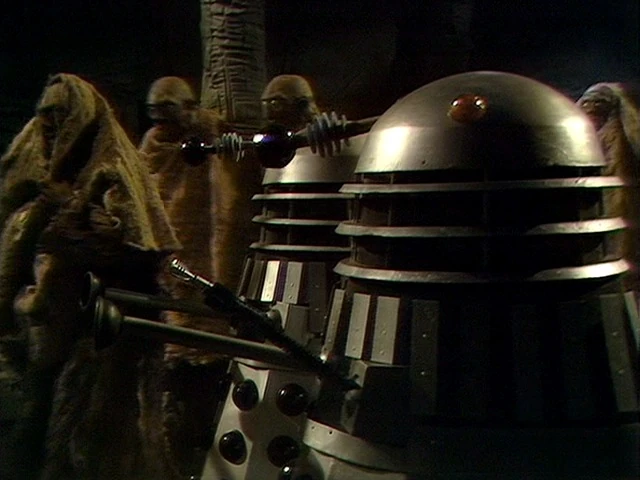Dalek: (192, 47, 640, 480)
